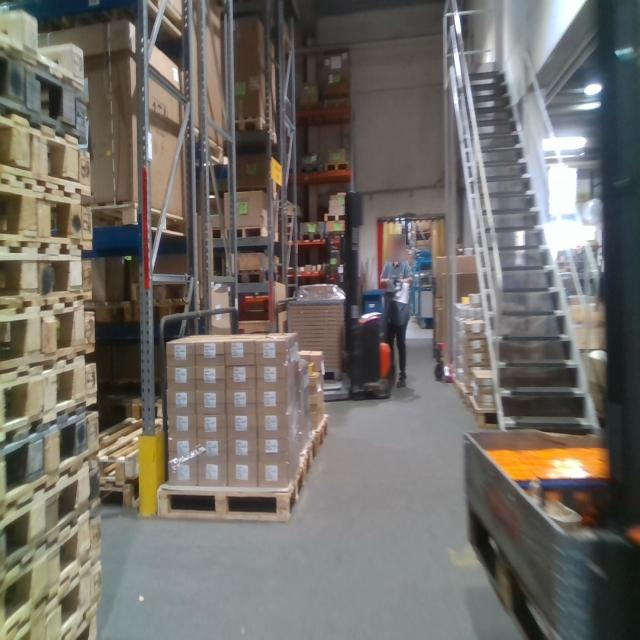pallet: (466, 505, 575, 635), (3, 512, 95, 621), (157, 460, 305, 522), (3, 460, 94, 560), (3, 544, 95, 634), (1, 109, 90, 192), (1, 412, 90, 489), (102, 413, 170, 512), (8, 47, 90, 122), (1, 296, 88, 363), (3, 354, 86, 418), (95, 193, 190, 247), (3, 244, 88, 302), (3, 192, 90, 244), (184, 117, 226, 171), (466, 391, 505, 430), (229, 266, 282, 292), (226, 222, 280, 247), (230, 112, 280, 139), (297, 430, 316, 476), (296, 228, 324, 247), (295, 159, 323, 177), (324, 159, 351, 177), (324, 96, 355, 111), (316, 413, 329, 447), (324, 209, 349, 225)
pallet_truck: (500, 1, 638, 640), (341, 187, 403, 407), (427, 273, 454, 382)
stillage: (284, 290, 350, 384)
